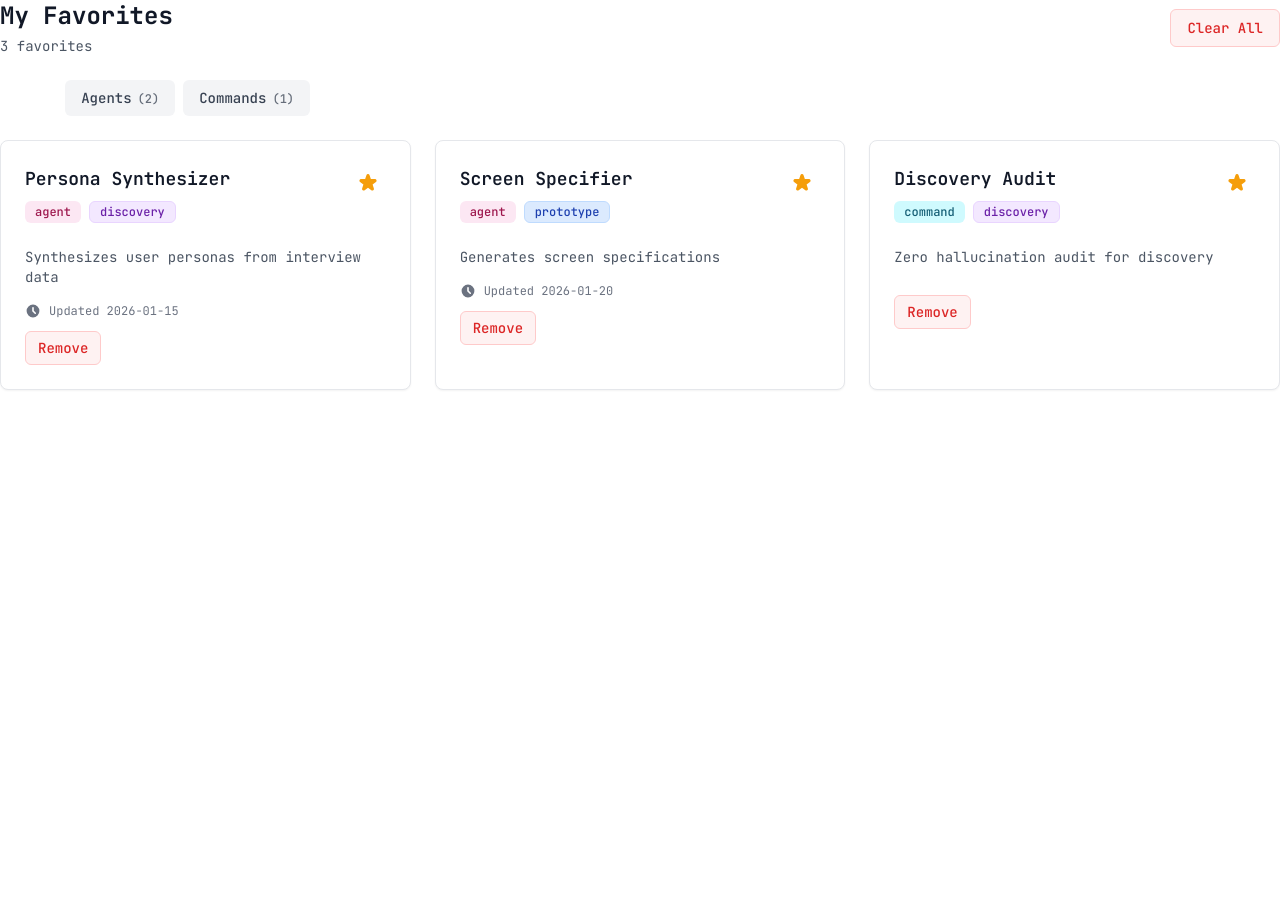
Test case: FavoritesPanel › Interactions › shows confirmation dialog when Clear All button is clicked
Click the button "Clear All" at (1225, 28), box [1170,9,1279,47]
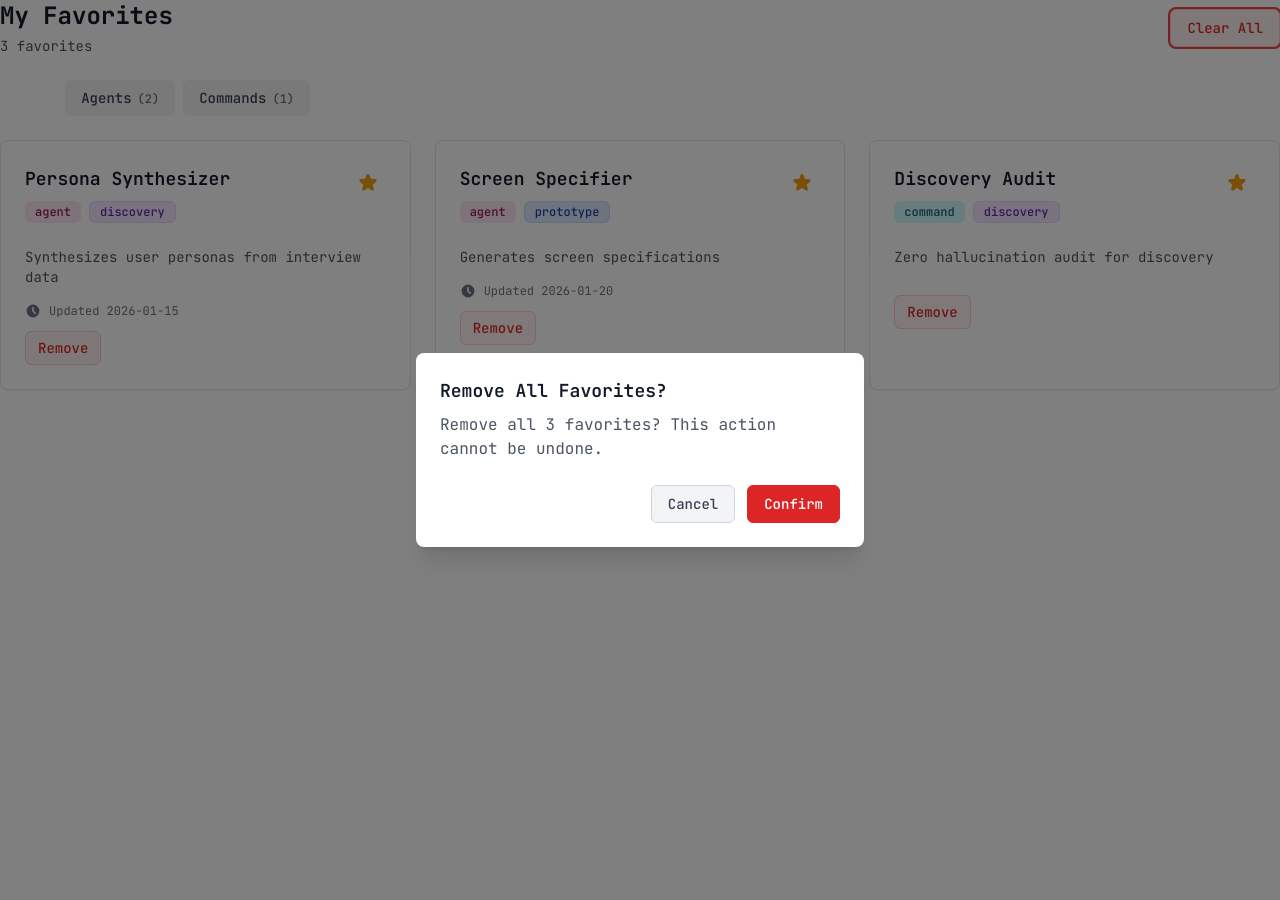
Expected: the text "Remove all 3 favorites? This action cannot be undone." is shown, [440,414,776,459]
